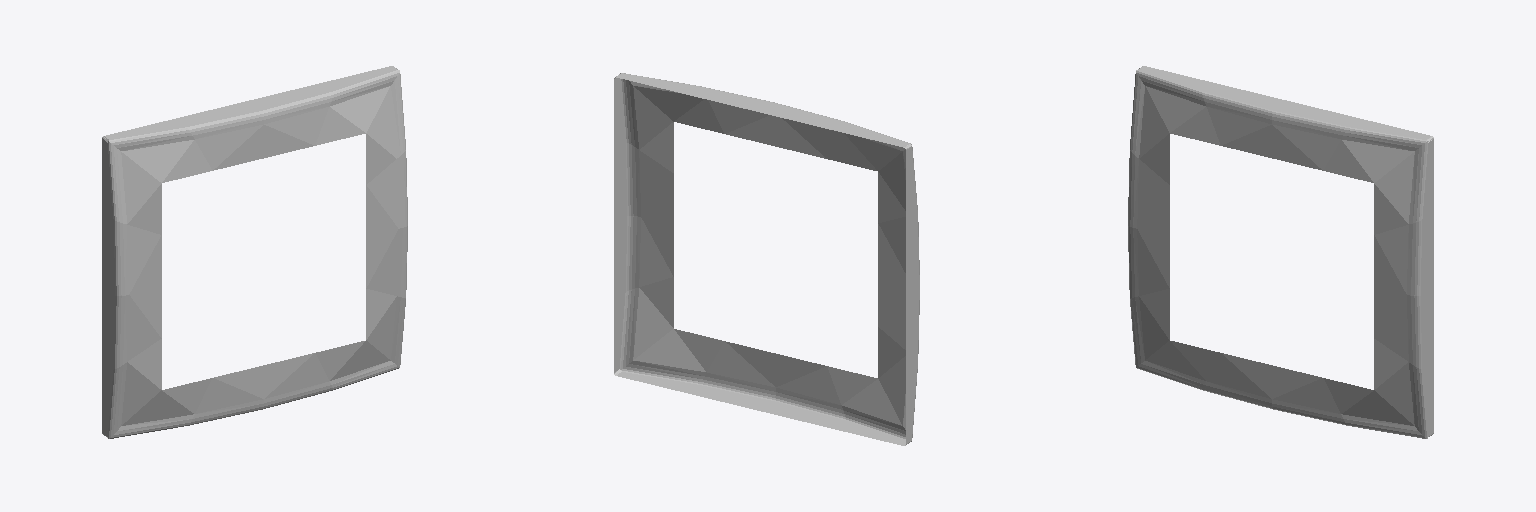
Rendered from original-6.obj.
3 views of the same model, side by side, from view 1: azimuth 30°, elevation 25°; view 2: azimuth 150°, elevation 25°; view 3: azimuth 330°, elevation 25° (orthographic).
Parts seen in each view (by area): view 1: #ID31; view 2: #ID31; view 3: #ID31.
Part boxes in pixels (x1,y1,x2,y2): #ID31: (102, 66, 407, 438); #ID31: (614, 73, 919, 445); #ID31: (1128, 66, 1433, 438).
Size of the model in its own units: 1.43 by 1.39 by 0.135.